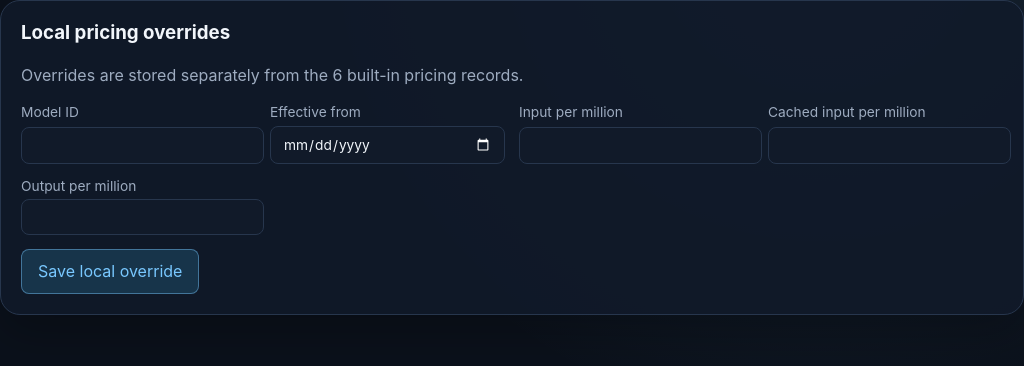
Scenario: PricingEditor › rejects negative local prices
In the field labelled "Model ID": (142, 145) 21,127 -> 264,164, type "future-model-x"
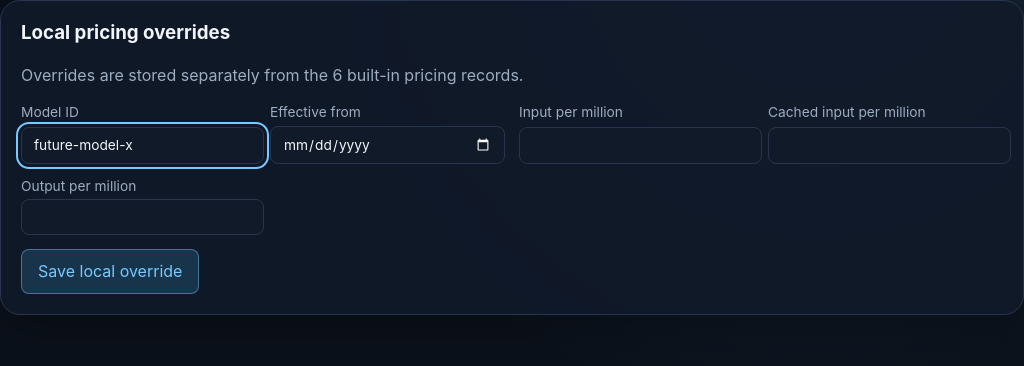
In the date field labelled "Effective from": (388, 145) 270,126 -> 505,164, type "2026-10-01"
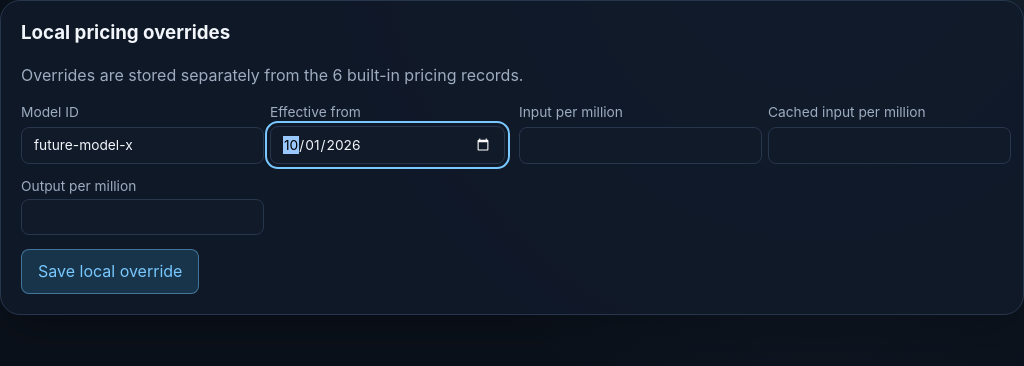
In the field labelled "Input per million": (640, 145) 519,127 -> 762,164, type "-1"
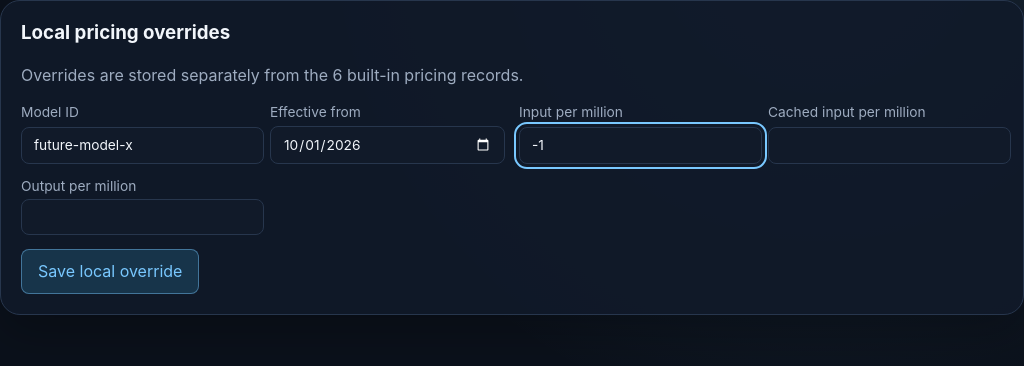
In the field labelled "Cached input per million": (890, 145) 768,127 -> 1011,164, type "0.1"
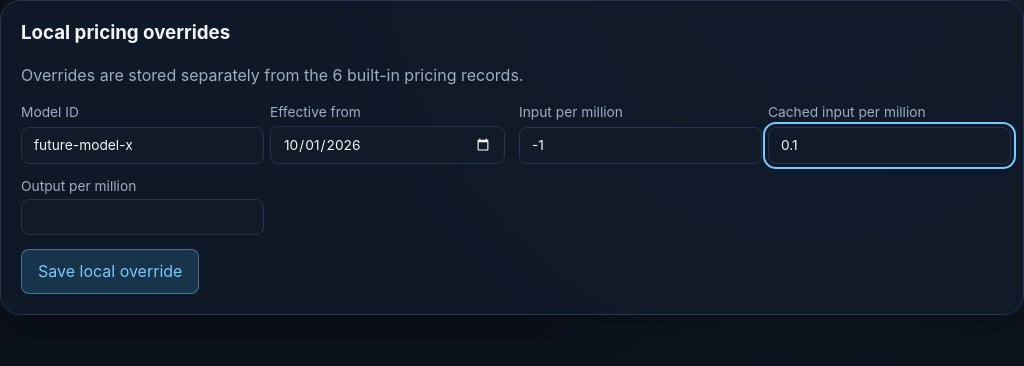
In the field labelled "Output per million": (142, 217) 21,199 -> 264,235, type "1"
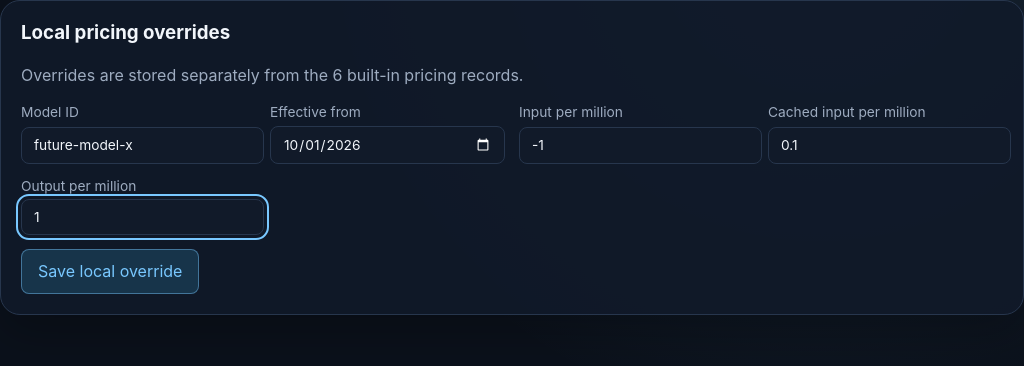
Click the button "Save local override": (110, 271) 21,249 -> 199,294
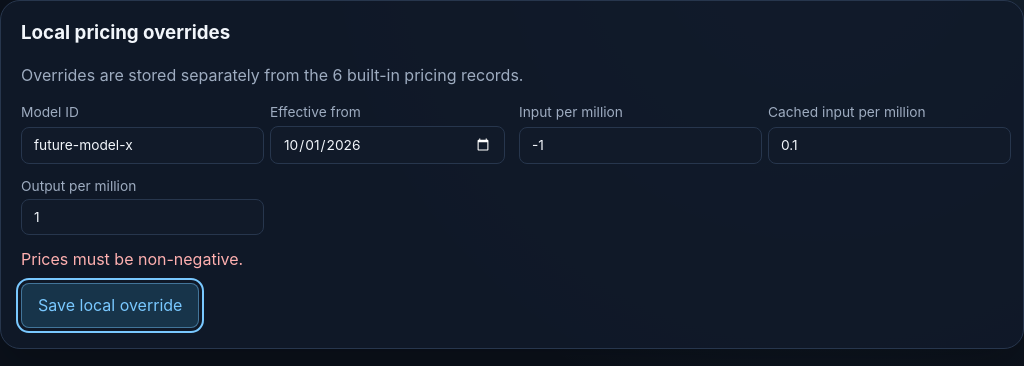
Expected: the text "Prices must be non-negative." is shown, 21,249 -> 243,269
